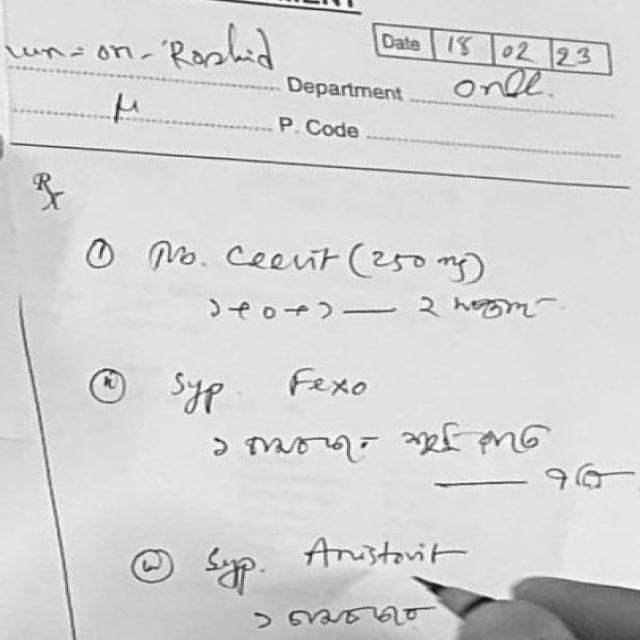medicine: (286, 526, 468, 579), (212, 236, 346, 280), (273, 359, 382, 407)
